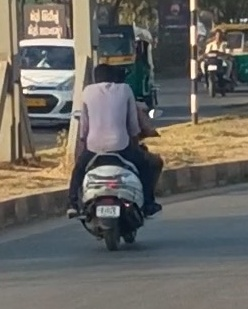BikeWithRider: (59, 58, 175, 251), (201, 27, 240, 101)
NoHelmet: (108, 60, 133, 89), (90, 61, 112, 88), (212, 27, 226, 41)
